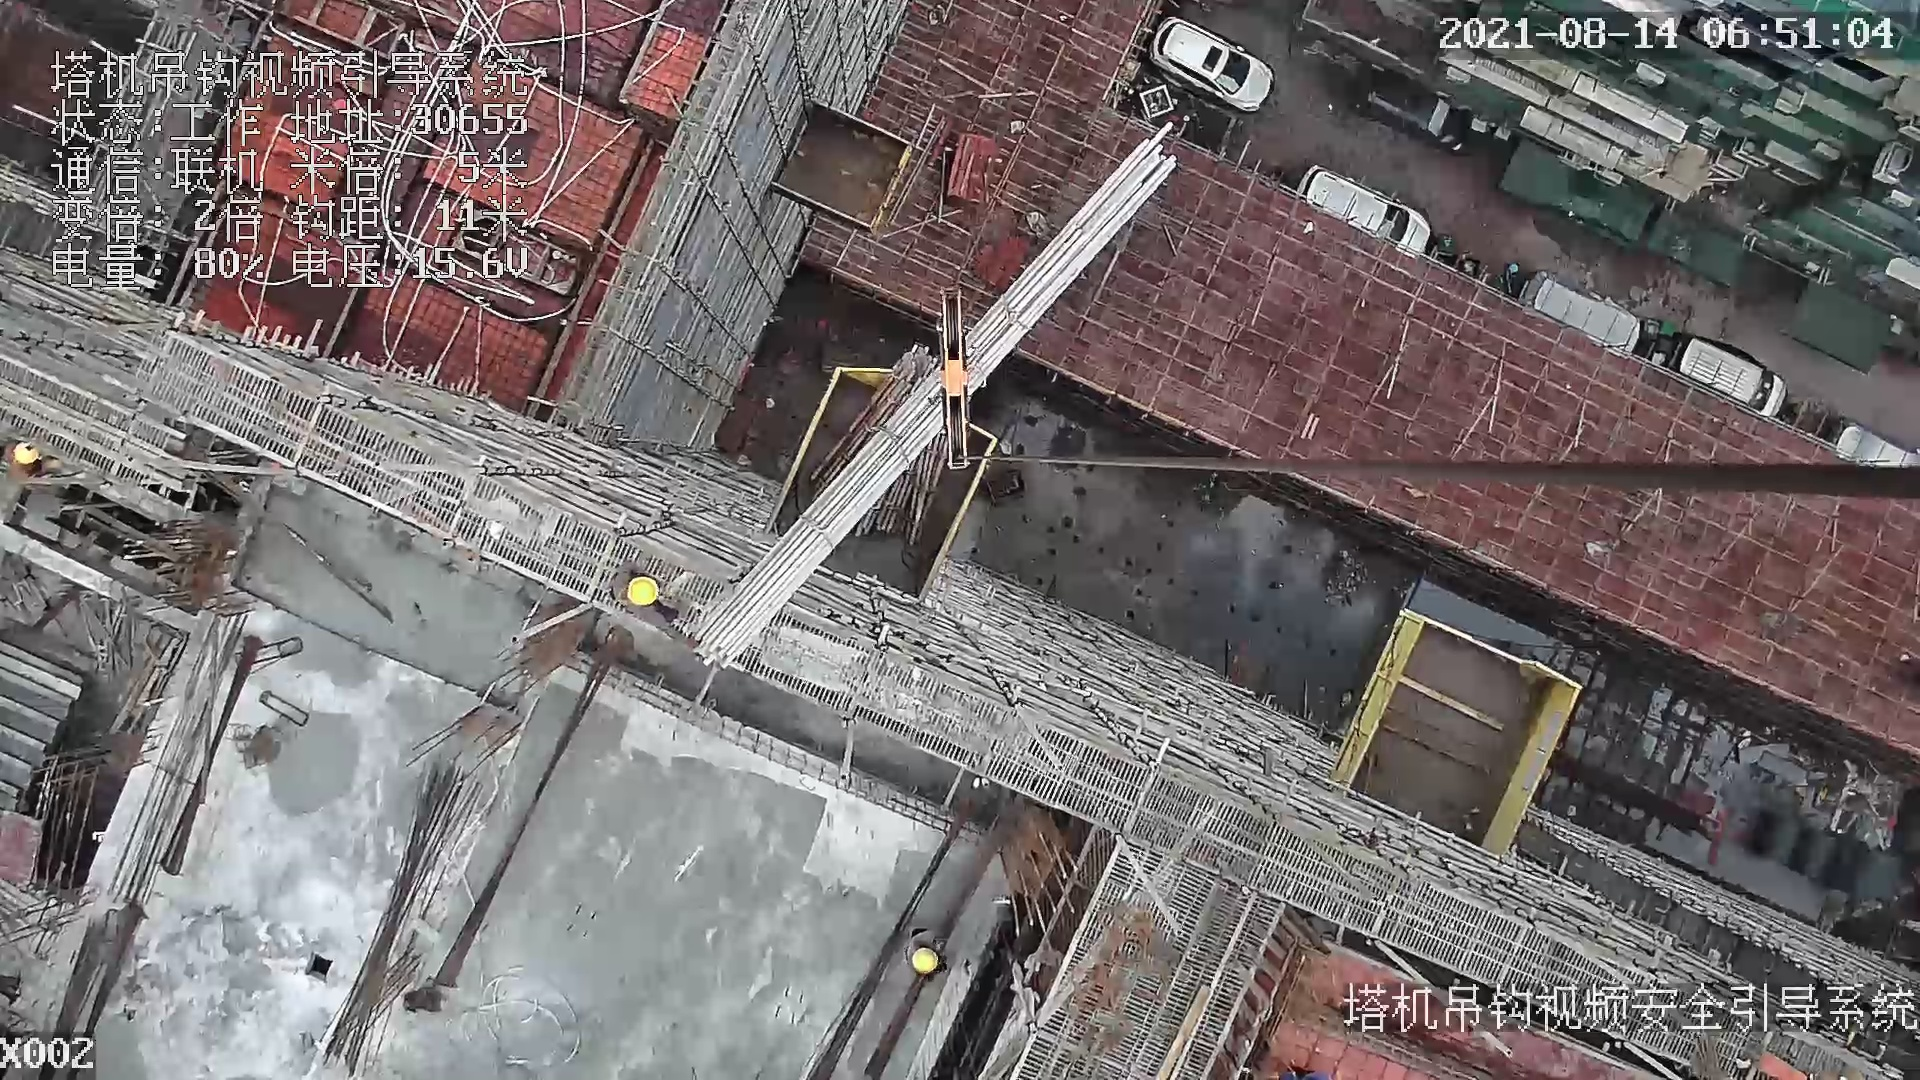helmet: (908, 945, 939, 974), (631, 576, 659, 607), (12, 445, 44, 462)
hook: (915, 280, 976, 465)
person: (597, 550, 678, 626), (1, 436, 67, 490), (909, 928, 955, 985)
rebar: (691, 122, 1179, 670), (320, 758, 483, 1065)
